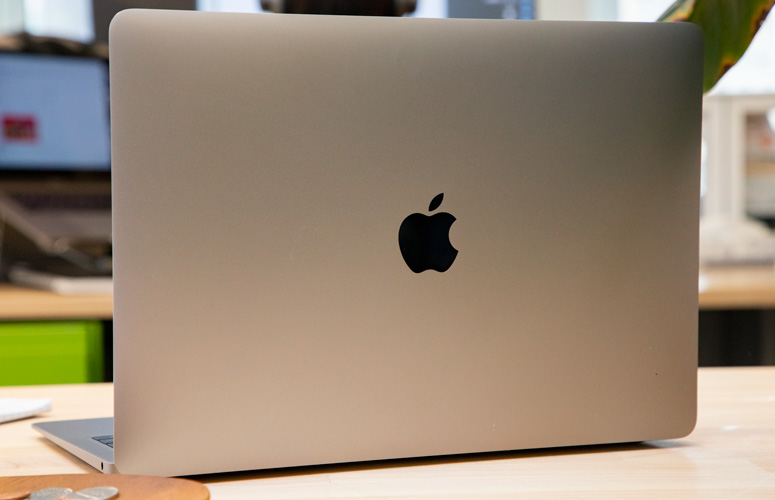apple: (397, 186, 484, 314)
